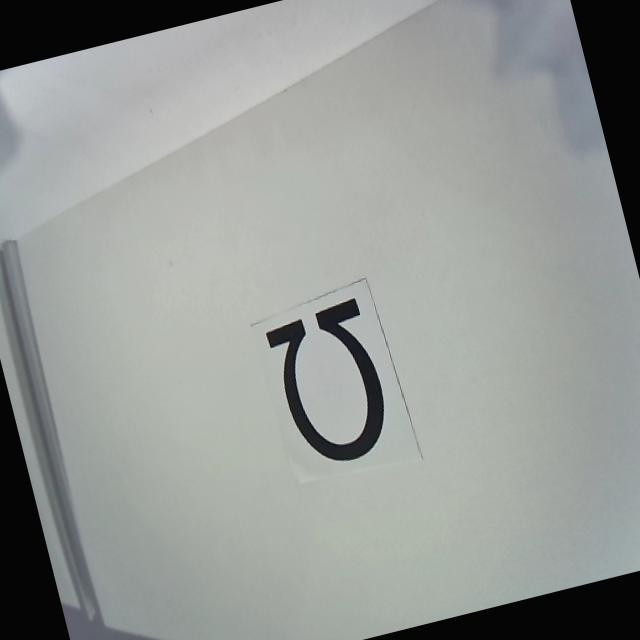OM: (260, 295, 398, 472)
